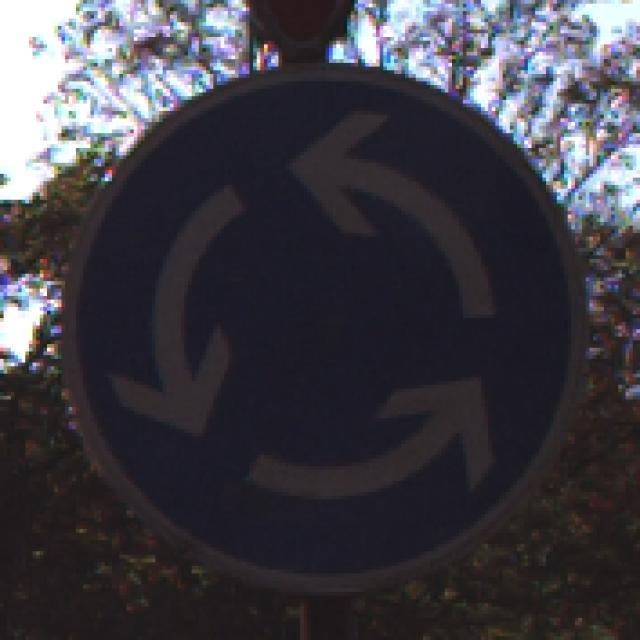roundabout: (70, 64, 582, 600)
